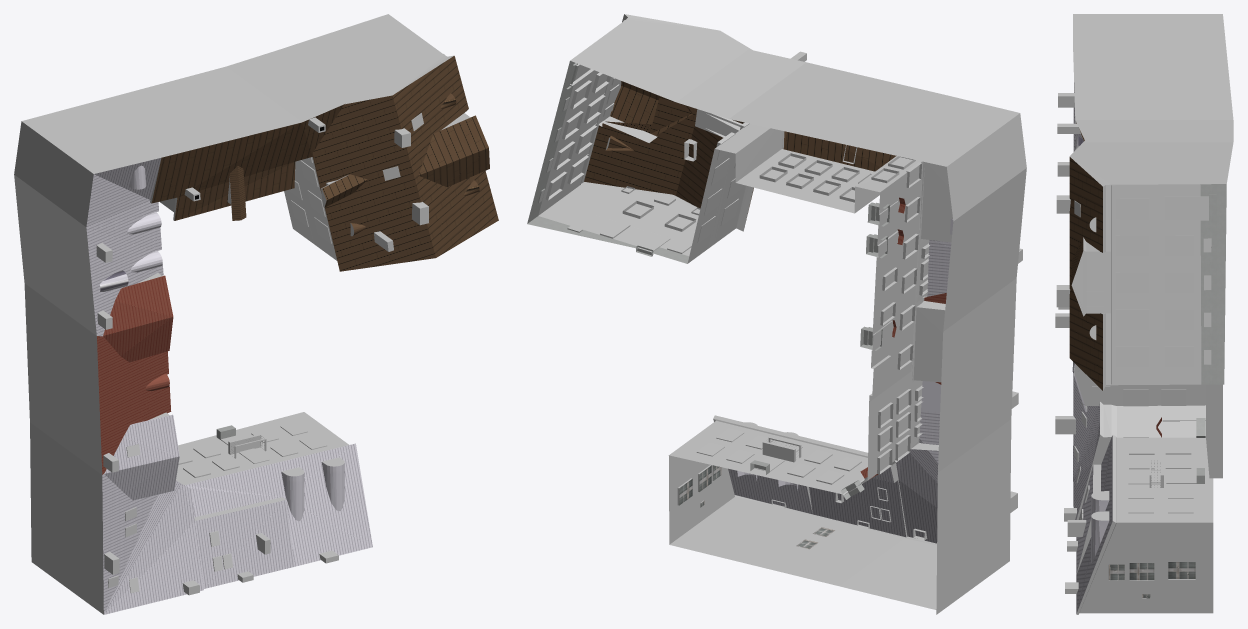
The model's file is Uus_23.obj.
3 views of the same model, side by side, from view 1: azimuth 30°, elevation 25°; view 2: azimuth 150°, elevation 25°; view 3: azimuth 270°, elevation 25° (orthographic). The views are drawn at different scales.
Parts seen in each view (by area): view 1: Uus_23; view 2: Uus_23; view 3: Uus_23.
Boxes of the visible parts, x1,y1,x2,y2 form: Uus_23: (14, 14, 498, 614); Uus_23: (527, 14, 1026, 614); Uus_23: (1055, 14, 1233, 614).
Size of the model in its own units: 43.62 by 44.93 by 15.22.
